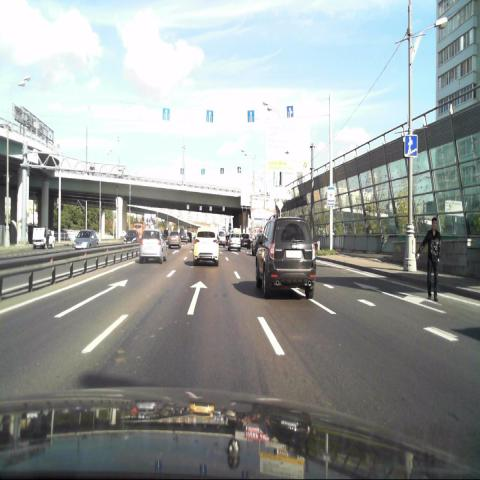6_6: (404, 134, 418, 156)
